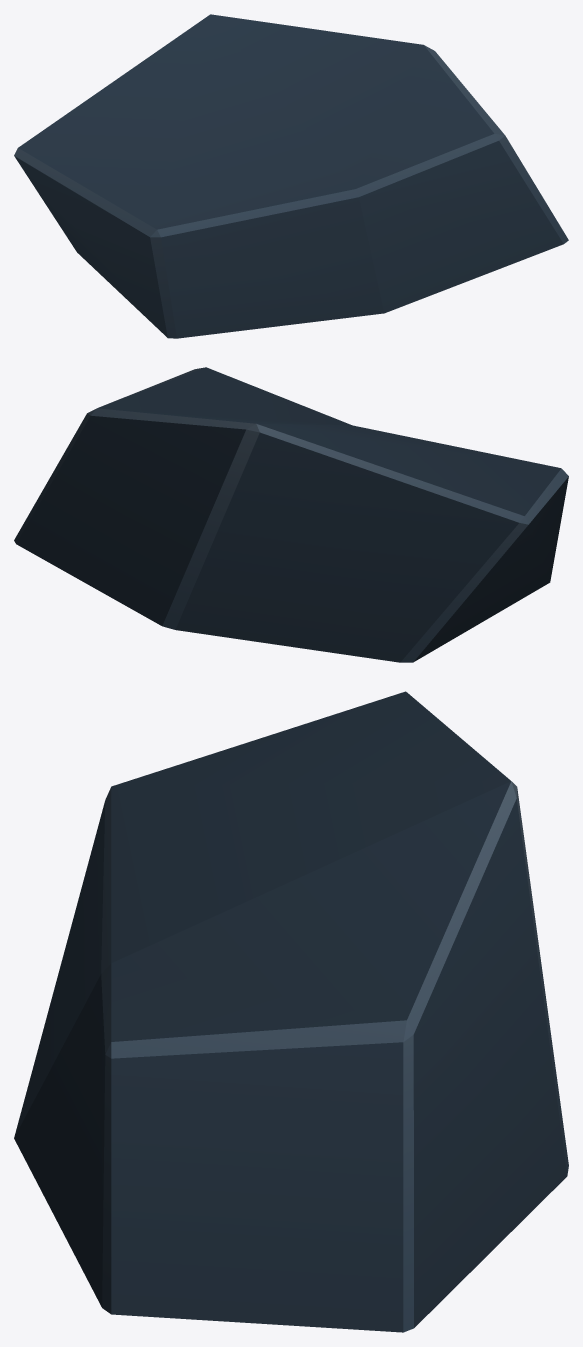
Rendered from Rock_2.fbx.
The picture shows the model from 3 angles, top to bottom: view 1: azimuth 30°, elevation 25°; view 2: azimuth 150°, elevation 25°; view 3: azimuth 270°, elevation 25°; orthographic projection. The views are drawn at different scales.
Parts seen in each view (by area): view 1: Rock_2; view 2: Rock_2; view 3: Rock_2.
Boxes of the visible parts, <box> form: Rock_2: <box>14,14,568,338</box>; Rock_2: <box>14,367,568,662</box>; Rock_2: <box>14,691,568,1332</box>.
Size of the model in its own units: 200 by 77.25 by 116.
